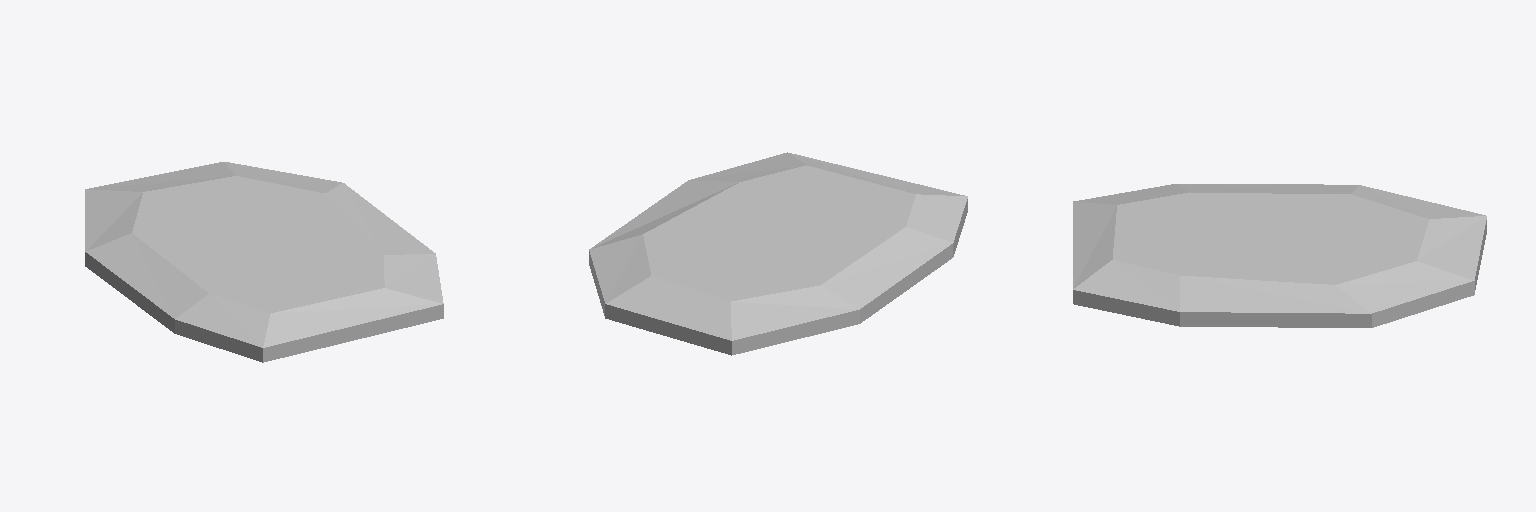
File: ruin-base.obj
The picture shows the model from 3 angles: view 1: azimuth 30°, elevation 25°; view 2: azimuth 150°, elevation 25°; view 3: azimuth 270°, elevation 25°; orthographic projection.
Visible parts, largest first — view 1: ruin_Cylinder; view 2: ruin_Cylinder; view 3: ruin_Cylinder.
Part boxes in pixels (x1,y1,x2,y2): ruin_Cylinder: (85,162,443,362); ruin_Cylinder: (589,152,967,355); ruin_Cylinder: (1073,184,1486,327).
Bounding box in the file's own units: 19.12 × 2.52 × 25.77.